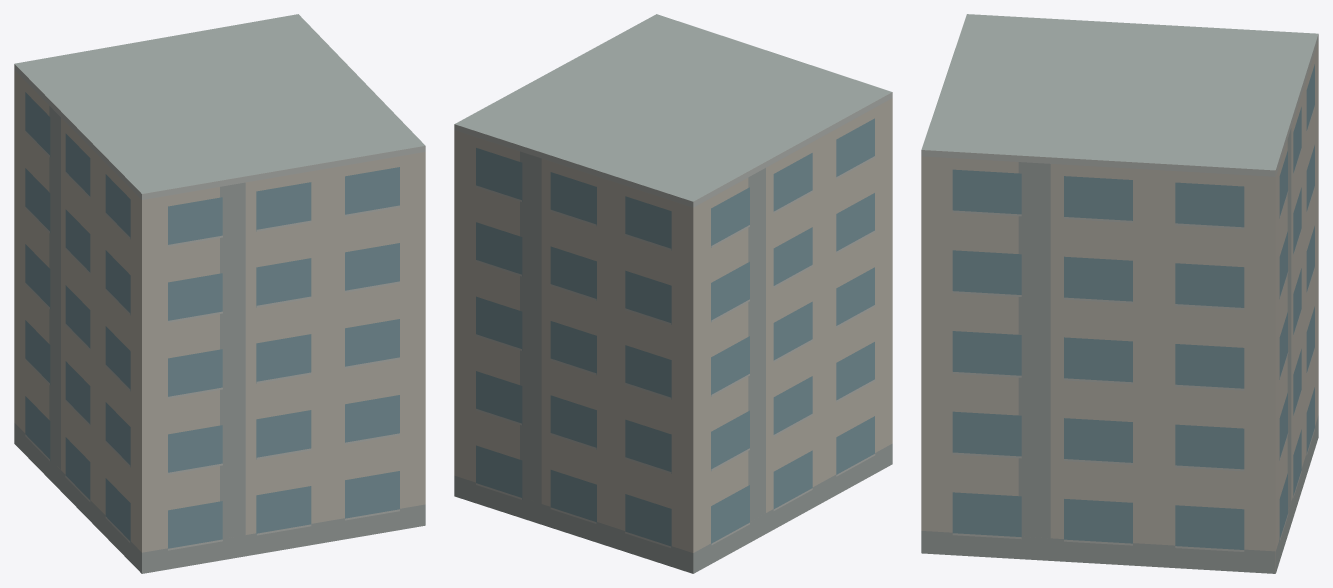
The model's file is survey-upis-32632304.glb.
3 renders of one model, left to right at view 1: azimuth 30°, elevation 25°; view 2: azimuth 150°, elevation 25°; view 3: azimuth 270°, elevation 25°, orthographic. The views are drawn at different scales.
Visible parts, largest first — view 1: survey-upis-32632304.tmp; view 2: survey-upis-32632304.tmp; view 3: survey-upis-32632304.tmp.
Part boxes in pixels (x1,y1,x2,y2): survey-upis-32632304.tmp: [14, 14, 425, 573]; survey-upis-32632304.tmp: [454, 14, 892, 573]; survey-upis-32632304.tmp: [921, 14, 1318, 573].
Bounding box in the file's own units: 12.69 × 15.25 × 13.62.
